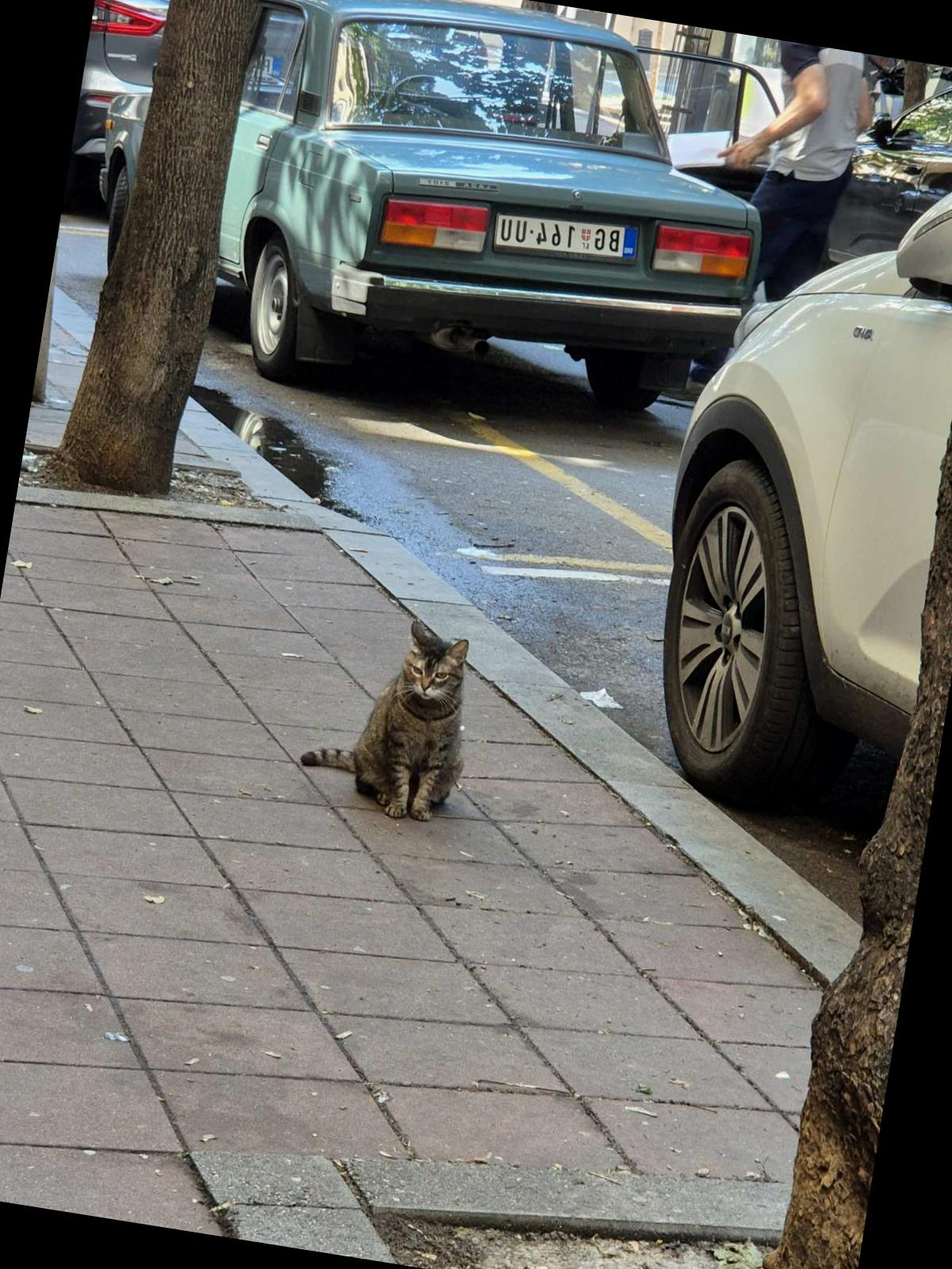macka: (294, 604, 488, 828)
